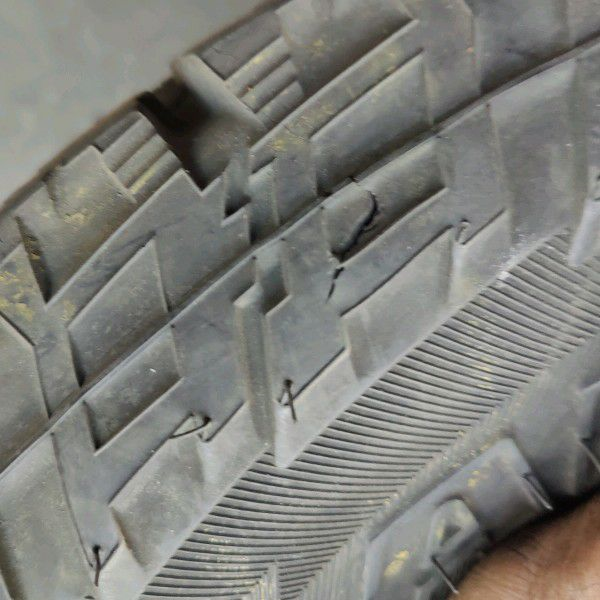tr: (328, 174, 388, 307)
